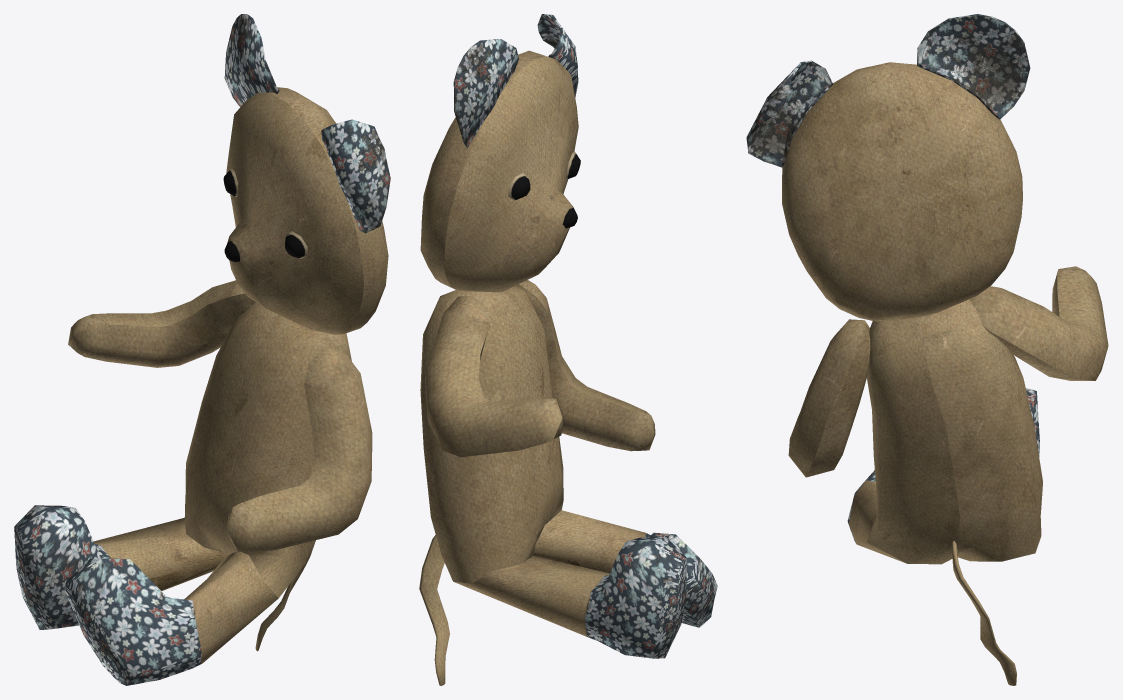
The model's file is SM_Stuffed_Toys_3.fbx.
3 views of the same model, side by side, from view 1: azimuth 30°, elevation 25°; view 2: azimuth 150°, elevation 25°; view 3: azimuth 270°, elevation 25° (orthographic). The views are drawn at different scales.
Visible parts, largest first — view 1: SM_Stuffed_Toys_3; view 2: SM_Stuffed_Toys_3; view 3: SM_Stuffed_Toys_3.
Boxes of the visible parts, x1=… form: SM_Stuffed_Toys_3: x1=14, y1=14, x2=390, y2=685; SM_Stuffed_Toys_3: x1=419, y1=14, x2=717, y2=685; SM_Stuffed_Toys_3: x1=746, y1=14, x2=1108, y2=685.
Size of the model in its own units: 14.1 by 15.29 by 30.77.
1 material, 1 textured.
